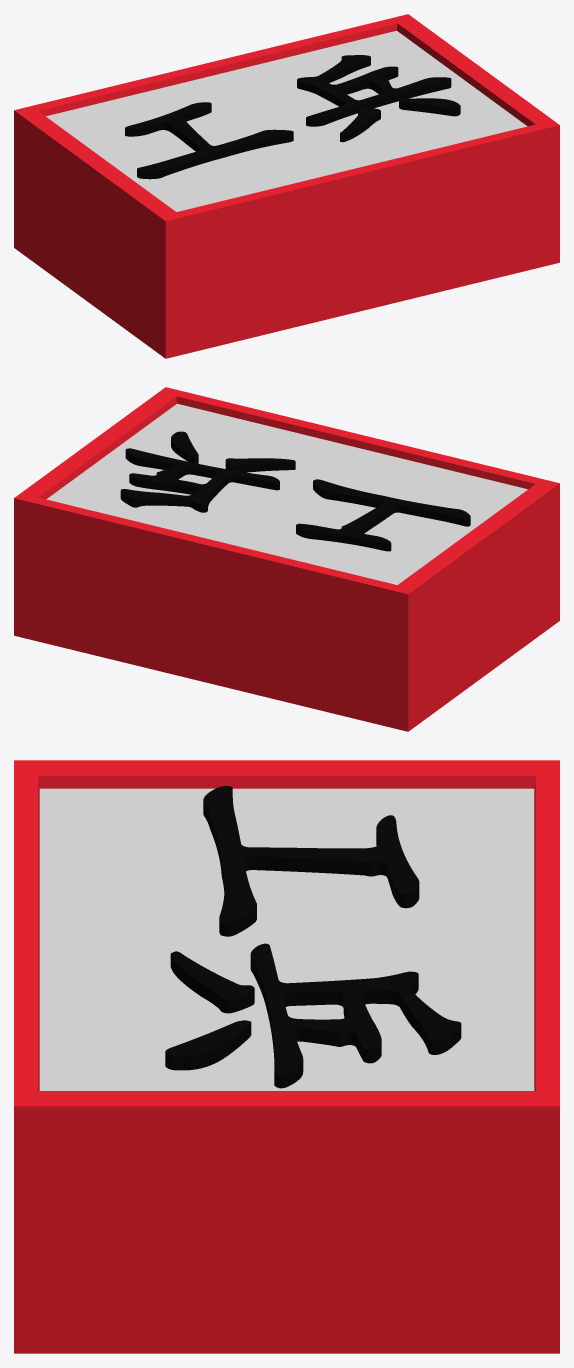
The model's file is 9_gong_bing.fbx.
3 renders of one model, top to bottom at view 1: azimuth 30°, elevation 25°; view 2: azimuth 150°, elevation 25°; view 3: azimuth 270°, elevation 25°, orthographic. The views are drawn at different scales.
Parts seen in each view (by area): view 1: Cube, 文本; view 2: Cube, 文本; view 3: Cube, 文本.
Boxes of the visible parts, x1,y1,x2,y2 form: Cube: (14, 14, 559, 358); 文本: (125, 55, 460, 179); Cube: (14, 387, 559, 731); 文本: (120, 431, 470, 551); Cube: (14, 760, 559, 1353); 文本: (165, 786, 461, 1088).
Bounding box in the file's own units: 240 × 80.47 × 160.
